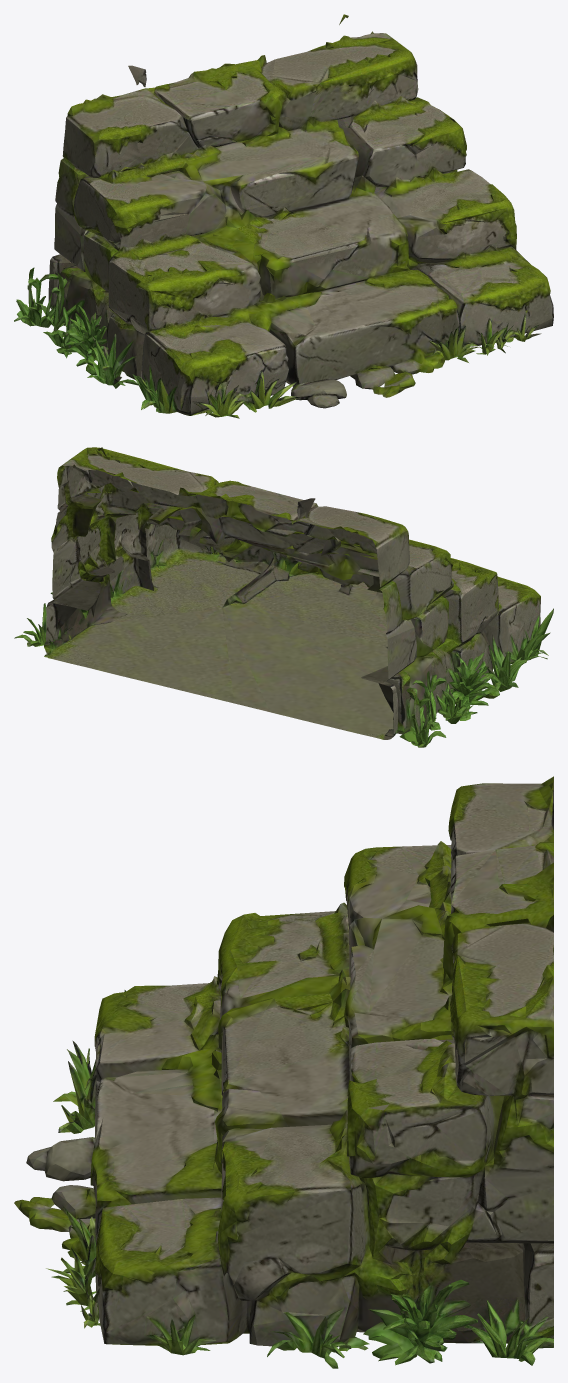
The model's file is StoneStairs.fbx.
3 renders of one model, top to bottom at view 1: azimuth 30°, elevation 25°; view 2: azimuth 150°, elevation 25°; view 3: azimuth 270°, elevation 25°, orthographic. The views are drawn at different scales.
Parts seen in each view (by area): view 1: StoneStairs; view 2: StoneStairs; view 3: StoneStairs.
Boxes of the visible parts, box(x1,y1,x2,y2) form: StoneStairs: box(14, 14, 553, 418); StoneStairs: box(14, 447, 553, 747); StoneStairs: box(14, 776, 553, 1368).
Bounding box in the file's own units: 2 × 1.01 × 1.37.
1 material, 1 textured.
